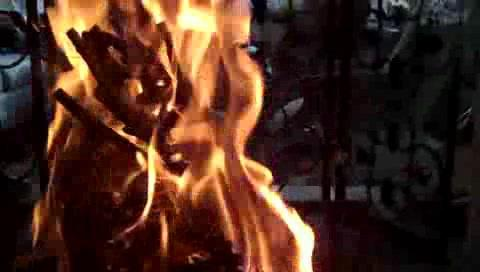fire: (44, 3, 268, 268)
